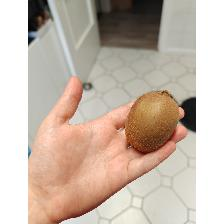Kiwi: (124, 88, 180, 154)
